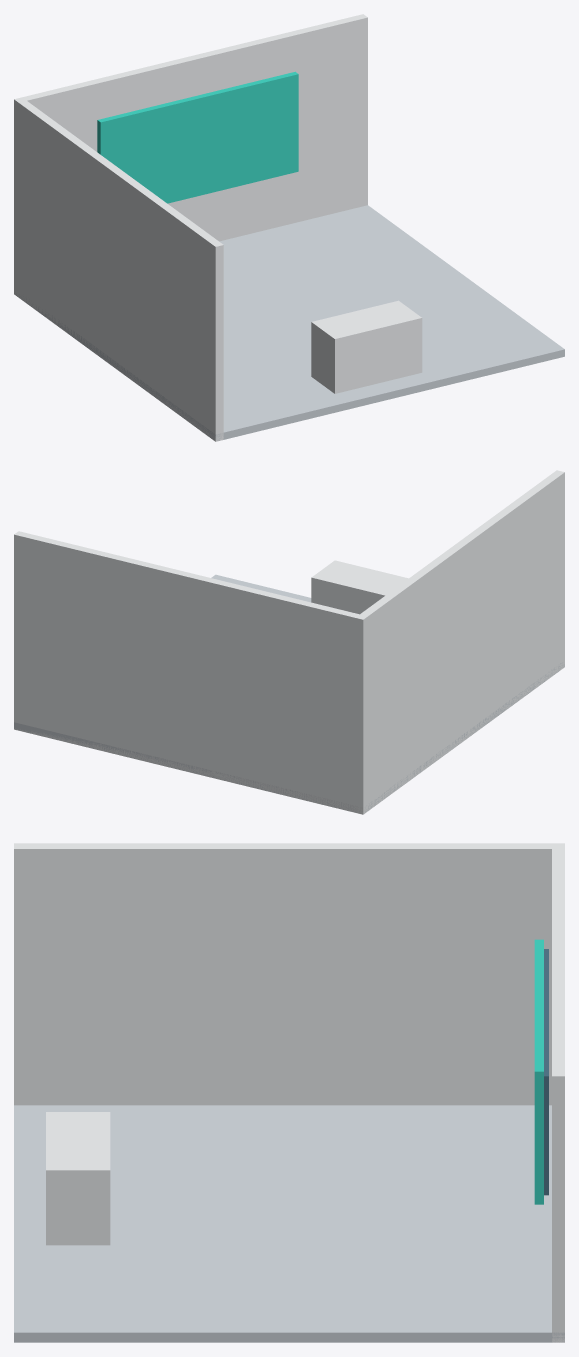
The picture shows the model from 3 angles, top to bottom: view 1: azimuth 30°, elevation 25°; view 2: azimuth 150°, elevation 25°; view 3: azimuth 270°, elevation 25°; orthographic projection. The views are drawn at different scales.
Parts seen in each view (by area): view 1: Exhibition Booth Concept; view 2: Exhibition Booth Concept; view 3: Exhibition Booth Concept.
Boxes of the visible parts, x1,y1,x2,y2 form: Exhibition Booth Concept: [14, 14, 564, 441]; Exhibition Booth Concept: [14, 470, 564, 814]; Exhibition Booth Concept: [14, 843, 564, 1342].
Bounding box in the file's own units: 6 × 3.2 × 6.
